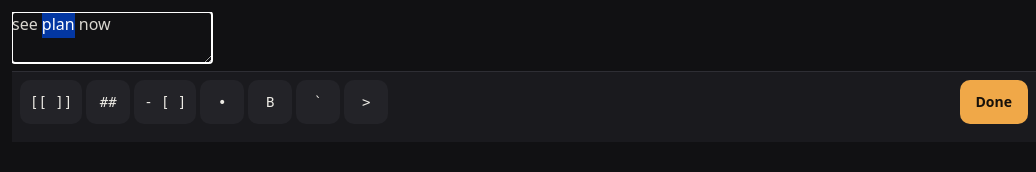
the Markdown toolbar › Inline code wraps the selection and keeps it selected
This screenshot has width=1036, height=172.
Click the button named "Inline code".
click(318, 102)  # box [296,80,340,124]
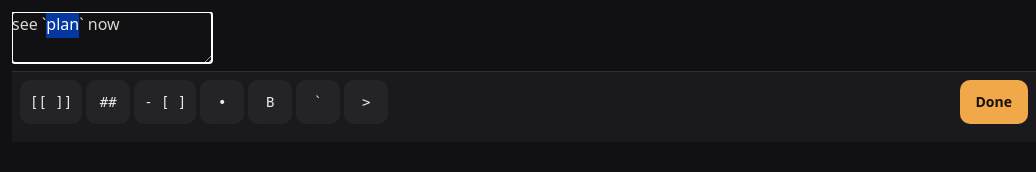
Expected: the text box named "Markdown source" holds "see `plan` now", [12,12,212,63]
